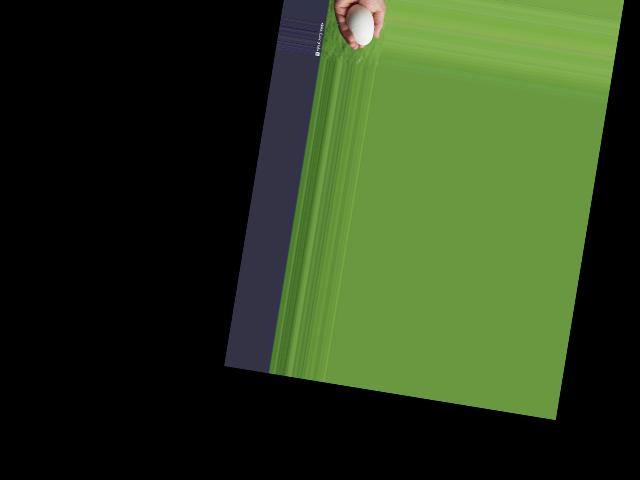egg: (341, 1, 377, 46)
